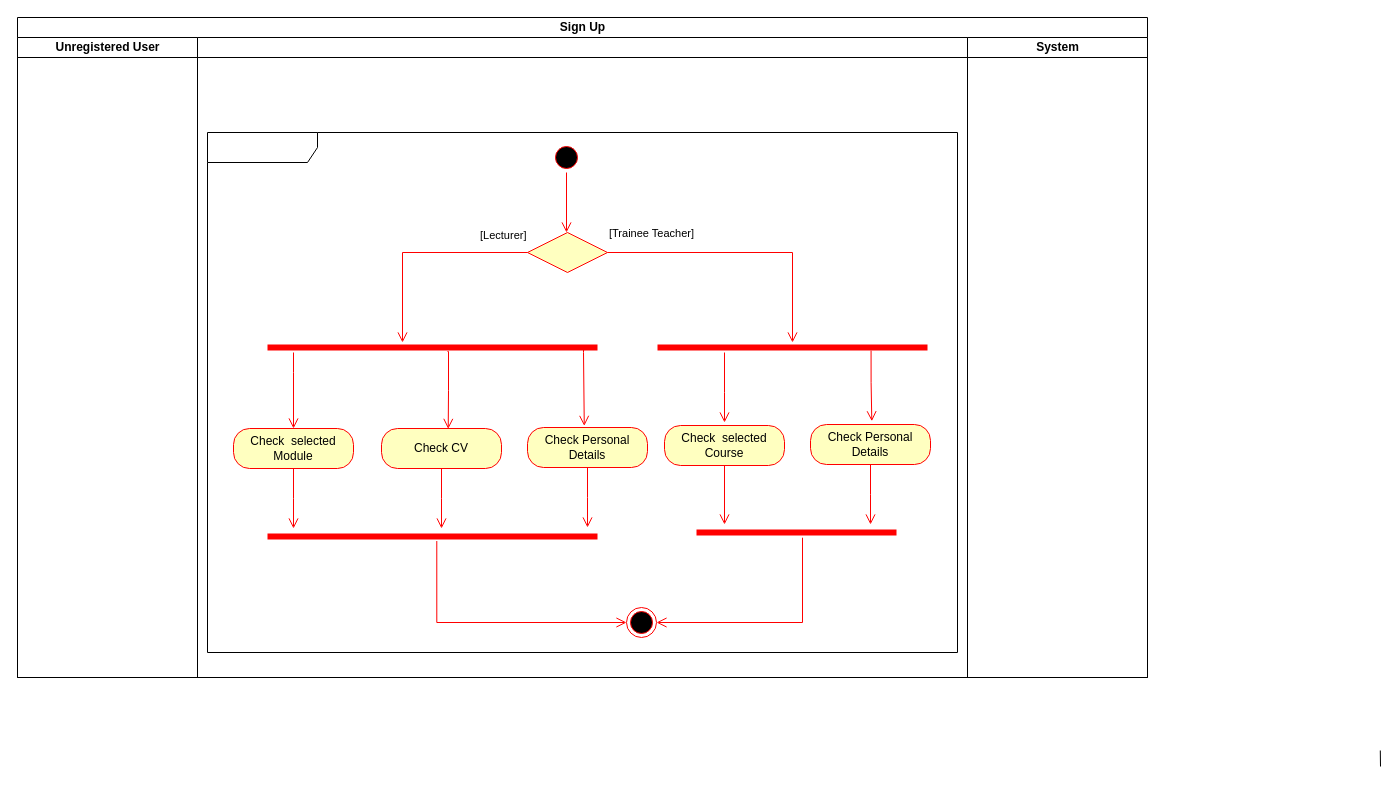
Some shapes in this 1399 by 785 pixel diagram are drawn without their labels. Here are the shapes that lost their labels. From the top down, the box of each, then its label:
(196, 36, 968, 678): Admin
(206, 132, 958, 652): Check form details
